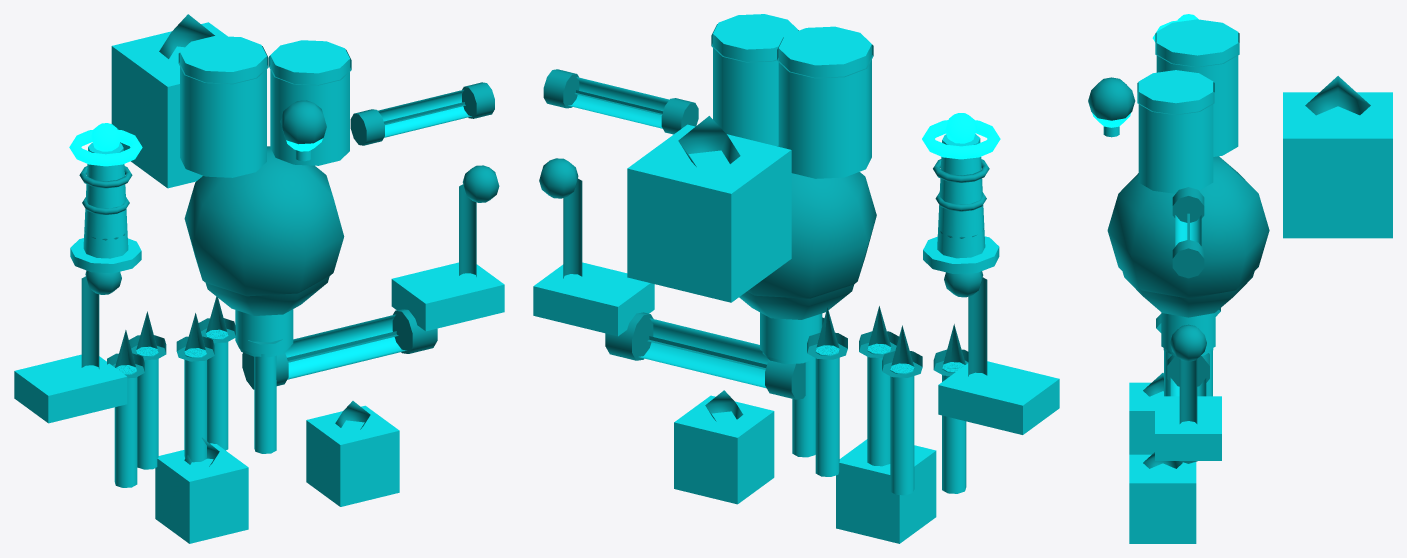
File: golem_049.glb
3 views of the same model, side by side, from view 1: azimuth 30°, elevation 25°; view 2: azimuth 150°, elevation 25°; view 3: azimuth 270°, elevation 25° (orthographic). The views are drawn at different scales.
Visible parts, largest first — view 1: Body, Detail, Glow; view 2: Body, Detail, Glow; view 3: Body, Detail, Glow.
Boxes of the visible parts, x1,y1,x2,y2 form: Body: (14,22,504,543); Detail: (79,14,499,466); Glow: (69,123,322,166); Body: (533,14,1059,543); Detail: (539,24,989,421); Glow: (922,113,1000,159); Body: (1103,19,1392,543); Detail: (1088,32,1370,468); Glow: (1092,14,1198,127).
Bounding box in the file's own units: 1.32 × 1.21 × 0.7639.
